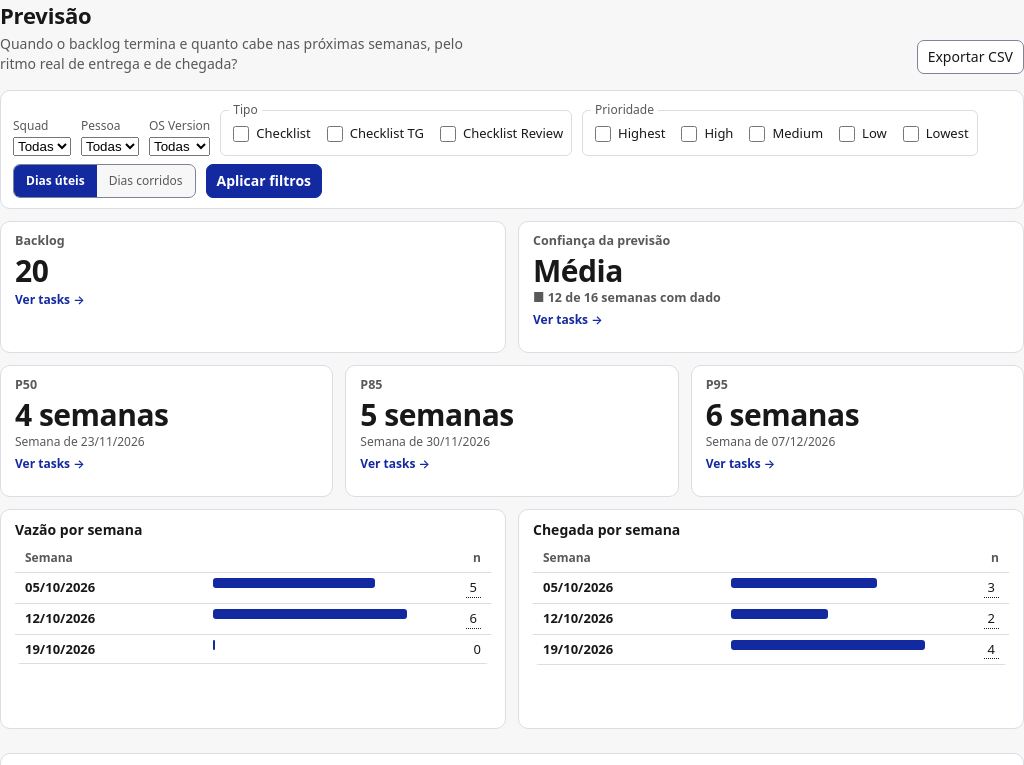
Test: tela Previsão › drillBacklogMesmoTamanho
Click the button named "Backlog" at point(43, 300), box [15,254,491,309]
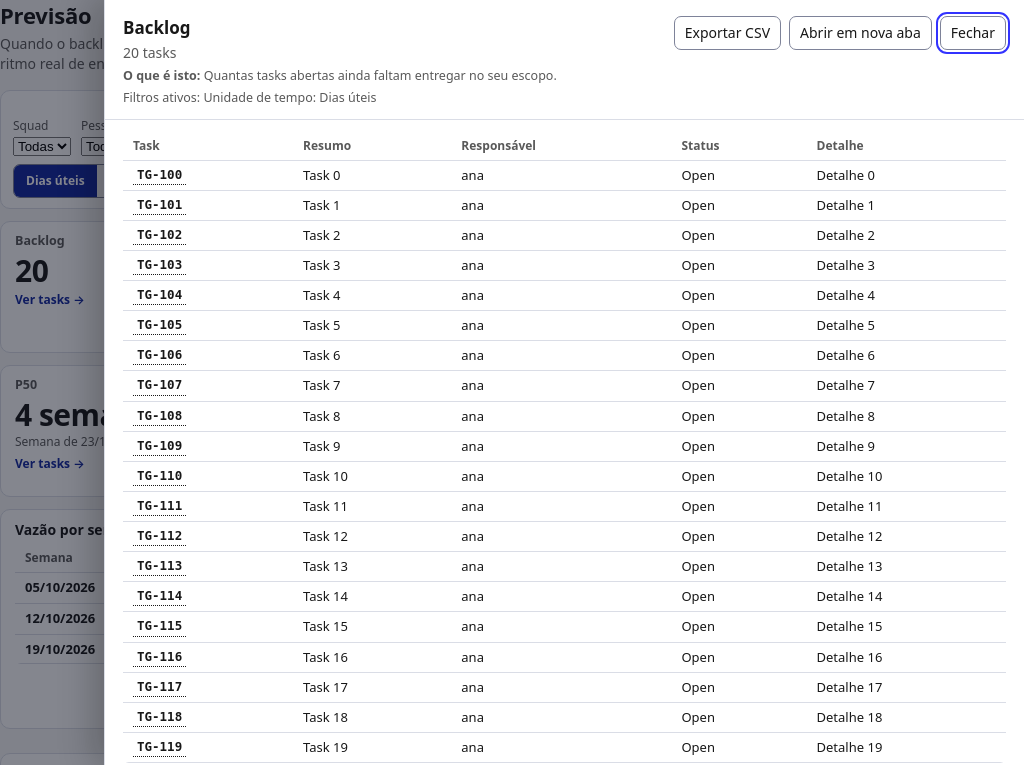
Result: the text "20 tasks" is shown at [123,43,176,62]
